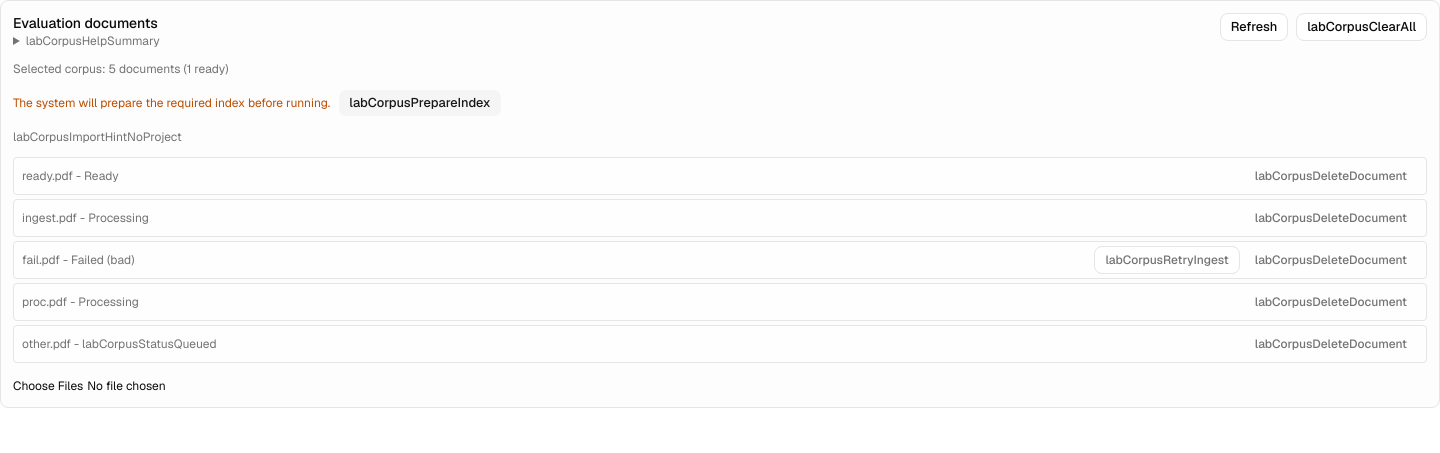
Scenario: LabEvaluationCorpusPanel › prepare index shows progress and success message
This screenshot has width=1440, height=453.
Click the button with test id "lab-corpus-prepare-index". click: (420, 103)
box: [338,89,502,117]
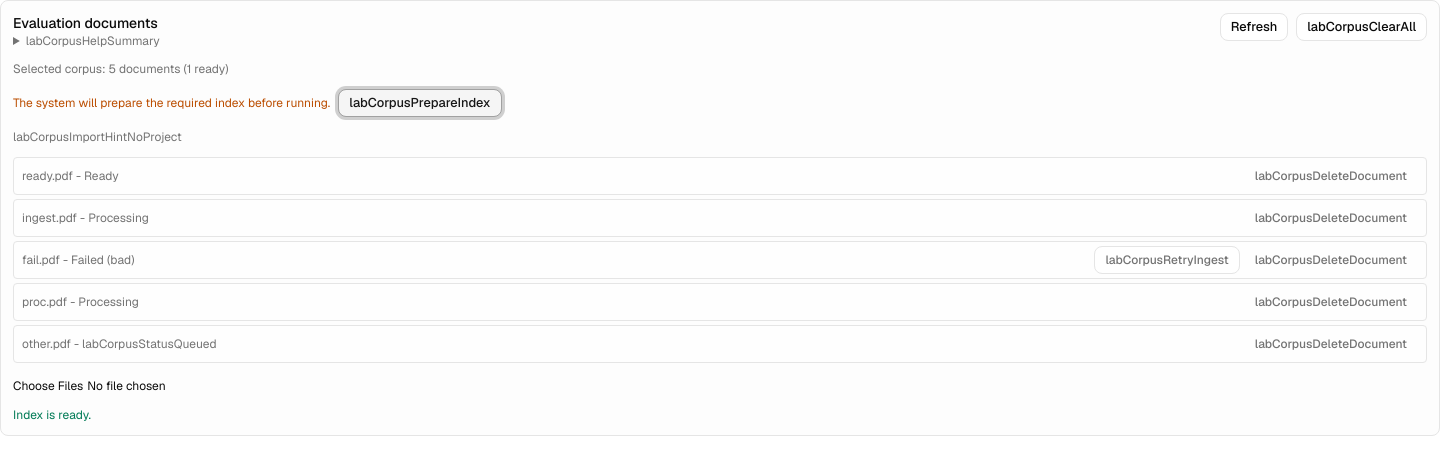
Expected: the message with test id "lab-corpus-success" reads "Index is ready.", [13,407,91,423]
